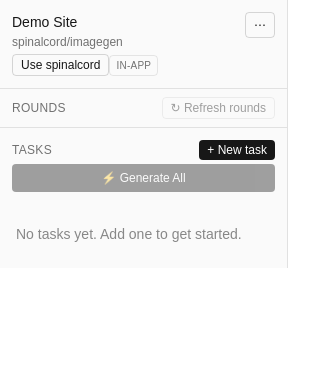
Scenario: Sidebar accessible names (BI-035.3) › names the bound folder and keeps the absolute path in the tooltip
Click the button named "Project menu".
click(260, 25)  # box [245,12,275,38]
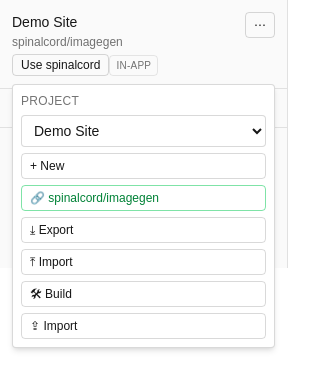
Result: the button with aria-label "imagegen linked" reads "🔗 spinalcord/imagegen" at [21,185,266,211]
